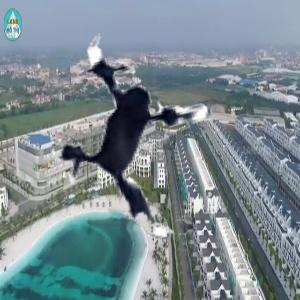drone: (24, 14, 266, 256)
